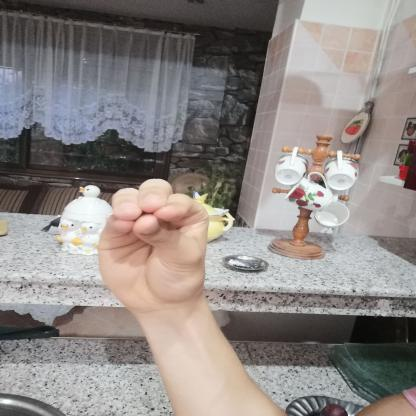HA: (79, 168, 228, 328)
